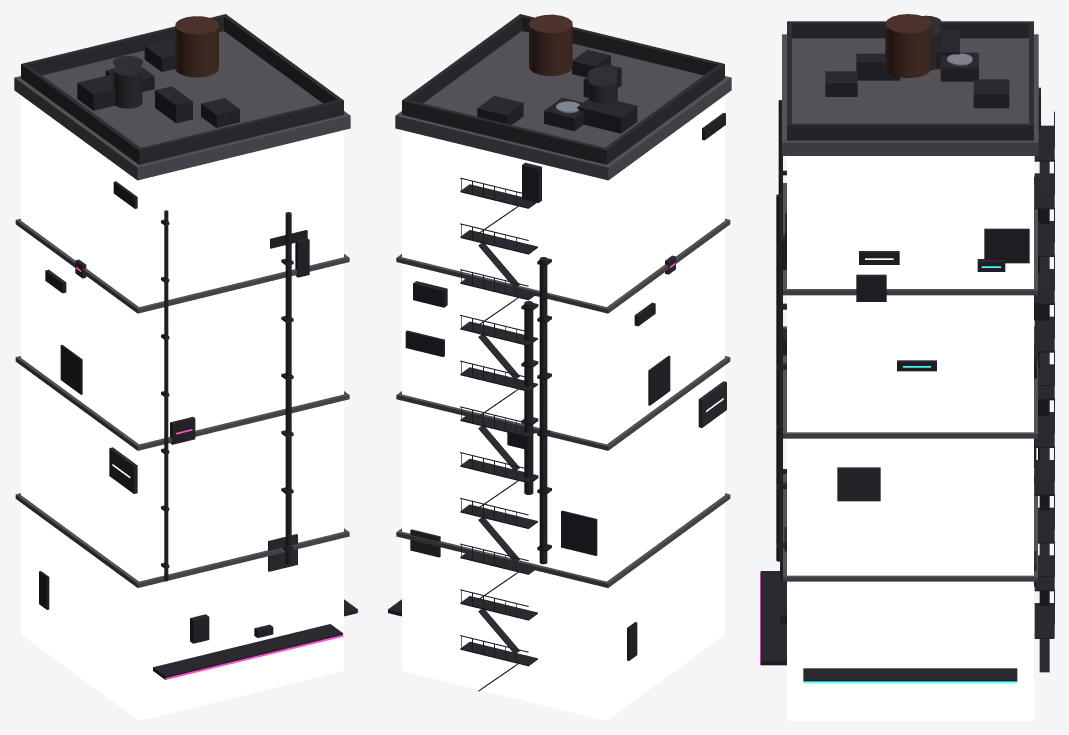
File: walkup_b.glb
The picture shows the model from 3 angles, left to right: view 1: azimuth 30°, elevation 25°; view 2: azimuth 150°, elevation 25°; view 3: azimuth 270°, elevation 25°; orthographic projection. The views are drawn at different scales.
Parts seen in each view (by area): view 1: facade_brick, concrete, metal_dark, concrete_dark, rust; view 2: facade_brick, metal_dark, concrete, concrete_dark, rust; view 3: facade_brick, metal_dark, concrete, concrete_dark, rust, neon_cyan.
Part boxes in pixels (x1,y1,x2,y2): facade_brick: (21, 95, 343, 720); concrete: (14, 31, 350, 587); metal_dark: (39, 39, 357, 679); concrete_dark: (21, 14, 343, 571); rust: (175, 16, 218, 77); facade_brick: (402, 95, 724, 720); metal_dark: (388, 49, 725, 691); concrete: (395, 31, 731, 587); concrete_dark: (402, 14, 726, 557); rust: (529, 14, 572, 75); facade_brick: (787, 156, 1033, 720); metal_dark: (760, 30, 1054, 681); concrete: (782, 34, 1038, 581); concrete_dark: (784, 15, 1036, 586); rust: (885, 14, 931, 78); neon_cyan: (803, 266, 1017, 683).
Size of the model in its own units: 16.95 by 43.7 by 17.9.
